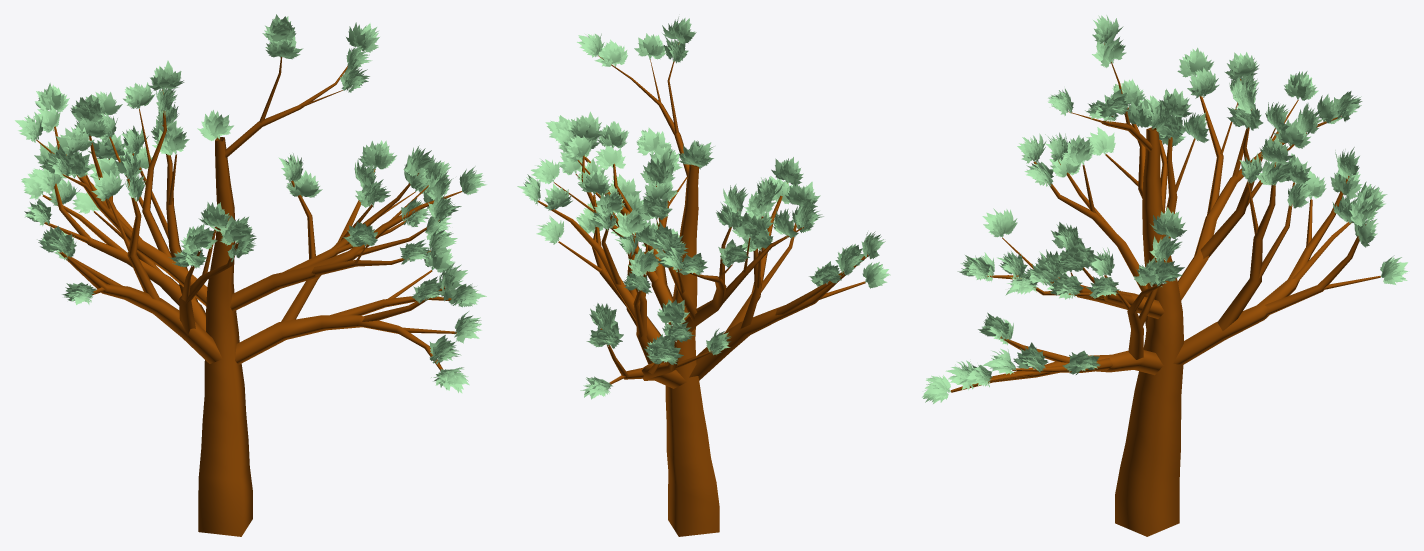
File: FinalTree26.fbx
The picture shows the model from 3 angles, left to right: view 1: azimuth 30°, elevation 25°; view 2: azimuth 150°, elevation 25°; view 3: azimuth 270°, elevation 25°; orthographic projection. The views are drawn at different scales.
Visible parts, largest first — view 1: Árbol; view 2: Árbol; view 3: Árbol.
Boxes of the visible parts, <box> form: Árbol: <box>36,56,461,536</box>; Árbol: <box>537,42,868,536</box>; Árbol: <box>950,43,1380,536</box>.
Size of the model in its own units: 528 by 656 by 551.
